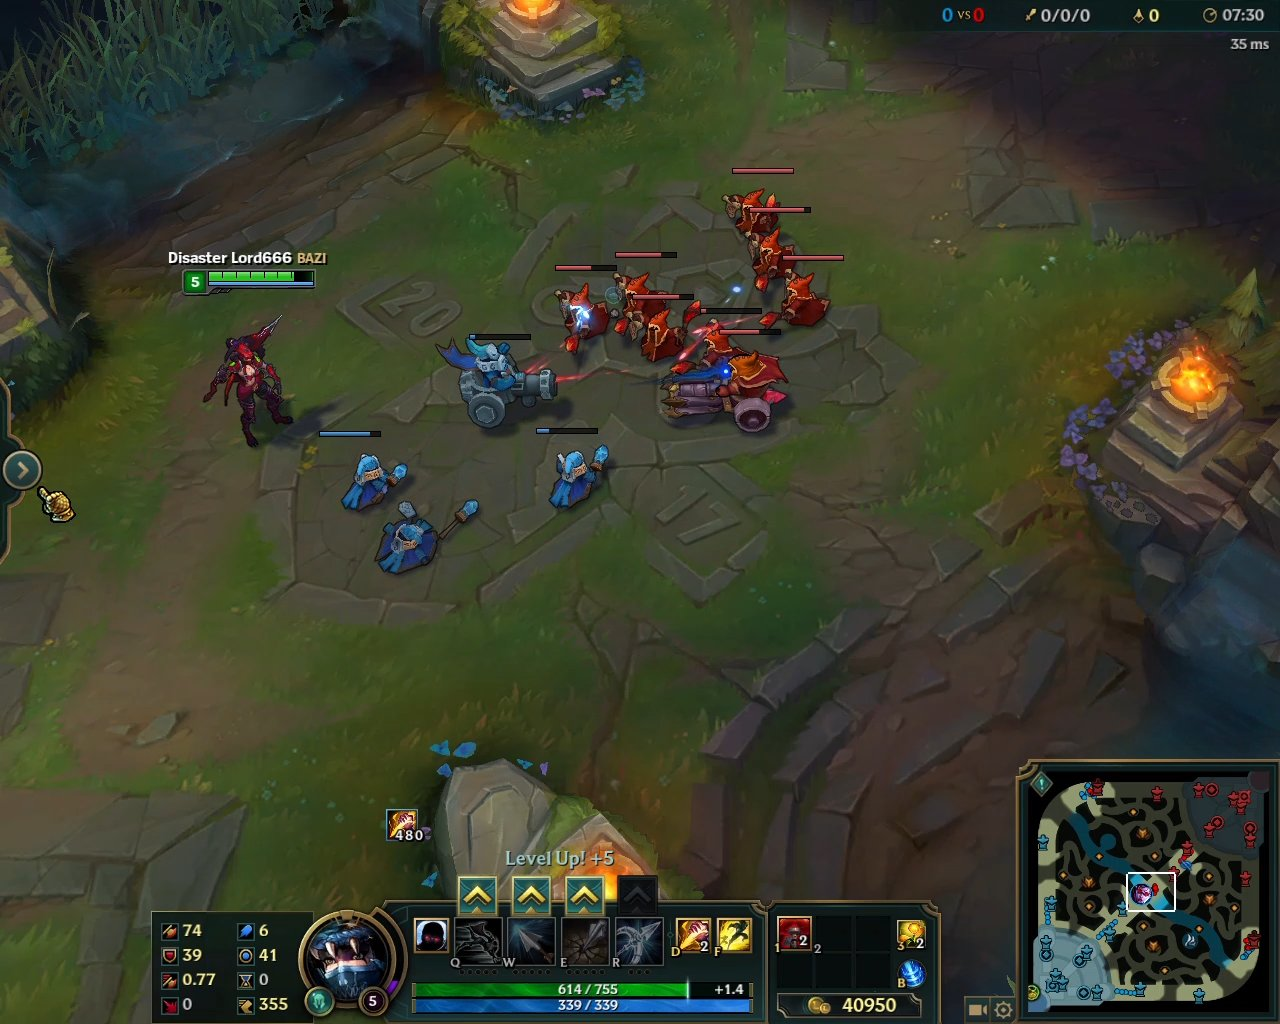EnemyMinion: (655, 327, 792, 436), (757, 252, 844, 332), (550, 262, 619, 357), (719, 168, 795, 253), (746, 205, 812, 294), (611, 253, 679, 335), (631, 290, 702, 363)
Vayne: (192, 308, 300, 469)
